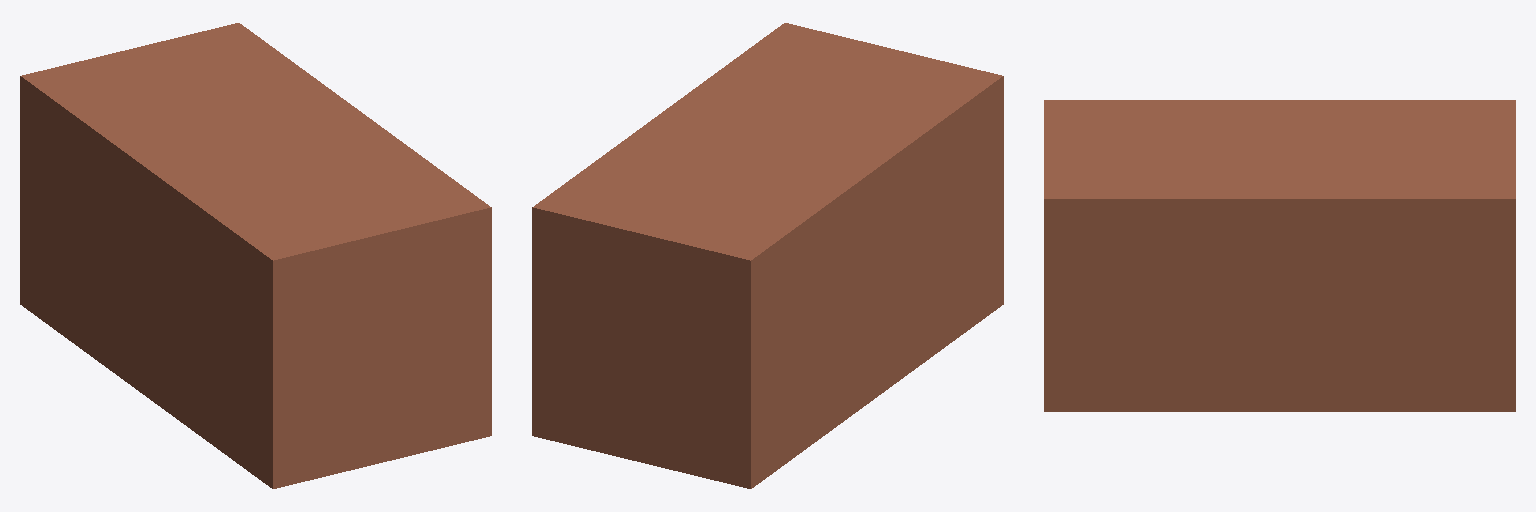
The robot description file, URDF, robot "block":
<?xml version="0.0" ?>
<robot name="block">
  <link name="baseLink">
    <contact>
      <lateral_friction value="1.0"/>
      <rolling_friction value="0.0"/>
      <contact_cfm value="0.0"/>
      <contact_erp value="1.0"/>
    </contact>
    <inertial>
      <origin rpy="0 0 0" xyz="0 0 0"/>
       <mass value="1.0"/>
       <inertia ixx="1" ixy="0" ixz="0" iyy="1" iyz="0" izz="1"/>
    </inertial>
    <visual>
      <origin rpy="0 0 0" xyz="0 0 0"/>
      <geometry>
        <box size="0.3 0.6 0.3"/>
      </geometry>
       <material name="brown">
           <color rgba="0.68 0.45 0.35 1.0"/>
      </material>
    </visual>
  </link>
</robot>

--- Render facts (derived) ---
3 views of the same robot in one strip: view 1: azimuth 30°, elevation 25°; view 2: azimuth 150°, elevation 25°; view 3: azimuth 270°, elevation 25° (orthographic).
Robot: block — 1 links, 0 joints (none); root link baseLink; default pose: all joints at 0.
Visible links, largest first — view 1: baseLink; view 2: baseLink; view 3: baseLink.
Boxes of the visible links, left/top/right/bottom form: baseLink: left=20, top=23, right=491, bottom=488; baseLink: left=532, top=23, right=1003, bottom=488; baseLink: left=1044, top=100, right=1515, bottom=411.
Bounding box of the posed robot: 0.3 × 0.6 × 0.3 m (x, y, z).
Geometry: primitives only (box / cylinder / sphere), no mesh files.